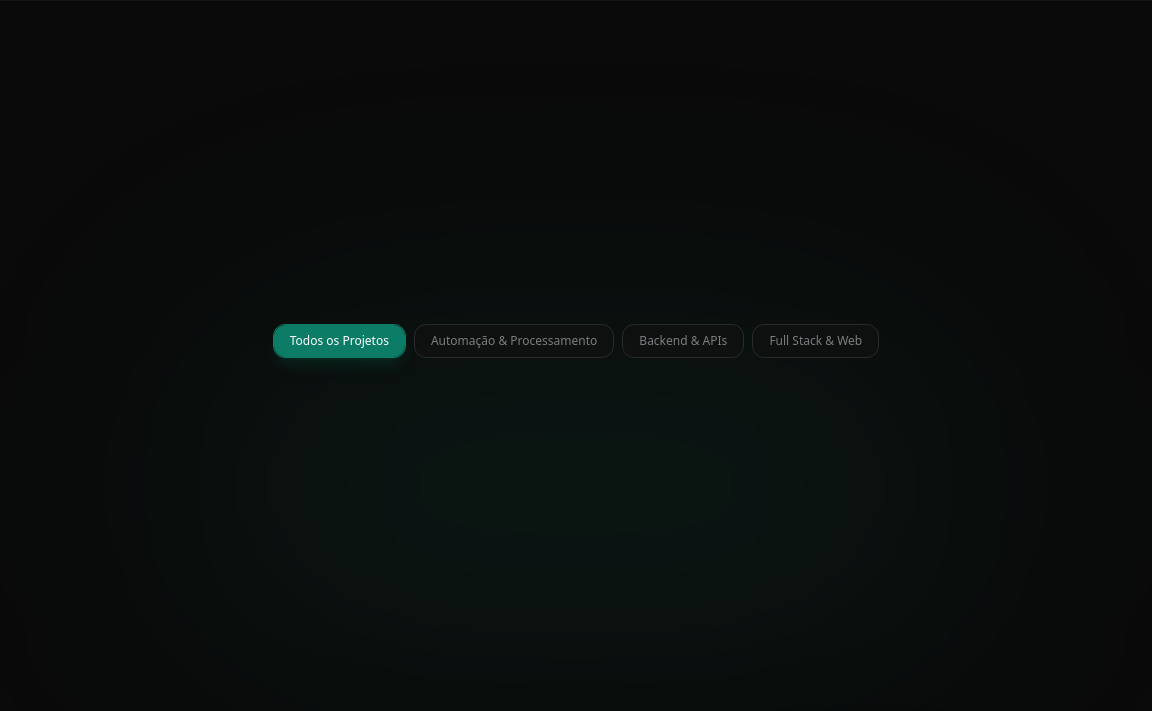
it: GitPortfolioShowcase Component (TDD) › should filter projects when category button is clicked
The width and height of the screenshot is (1152, 711).
Click the button "Automação & Processamento" at [514, 340], box [414,324,614,358]
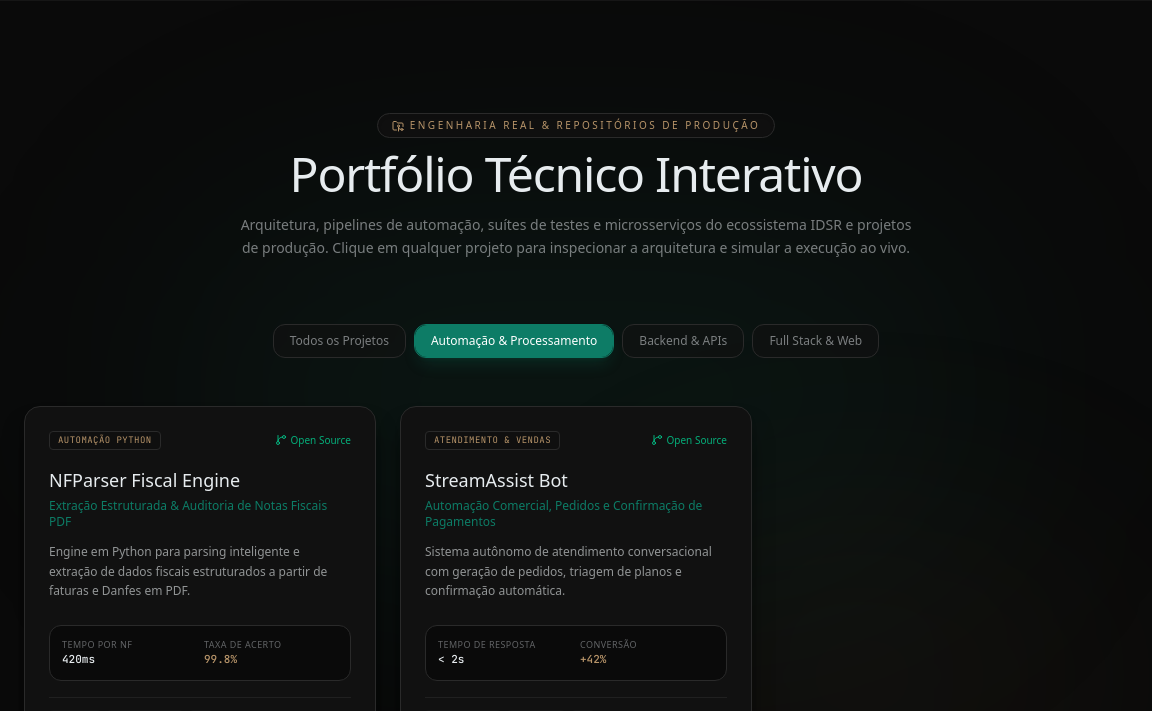
Now the heading "NFParser Fiscal Engine" is shown, box [49,468,240,492]
Now the heading "StreamAssist Bot" is shown, box [425,468,568,492]
